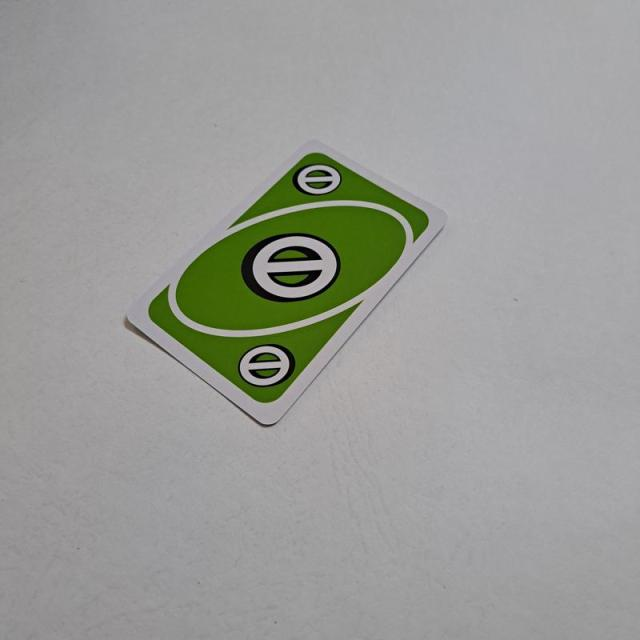Green_Card: (142, 147, 434, 410)
Skip: (295, 159, 344, 198)
